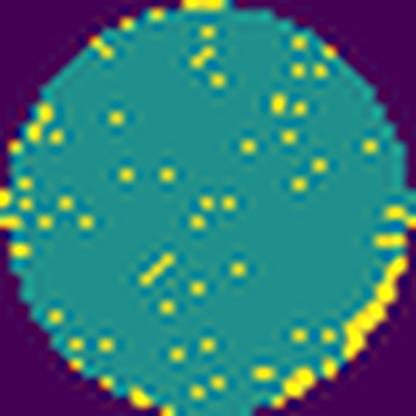Edge-Loc: (346, 255, 415, 364), (274, 362, 316, 410)
